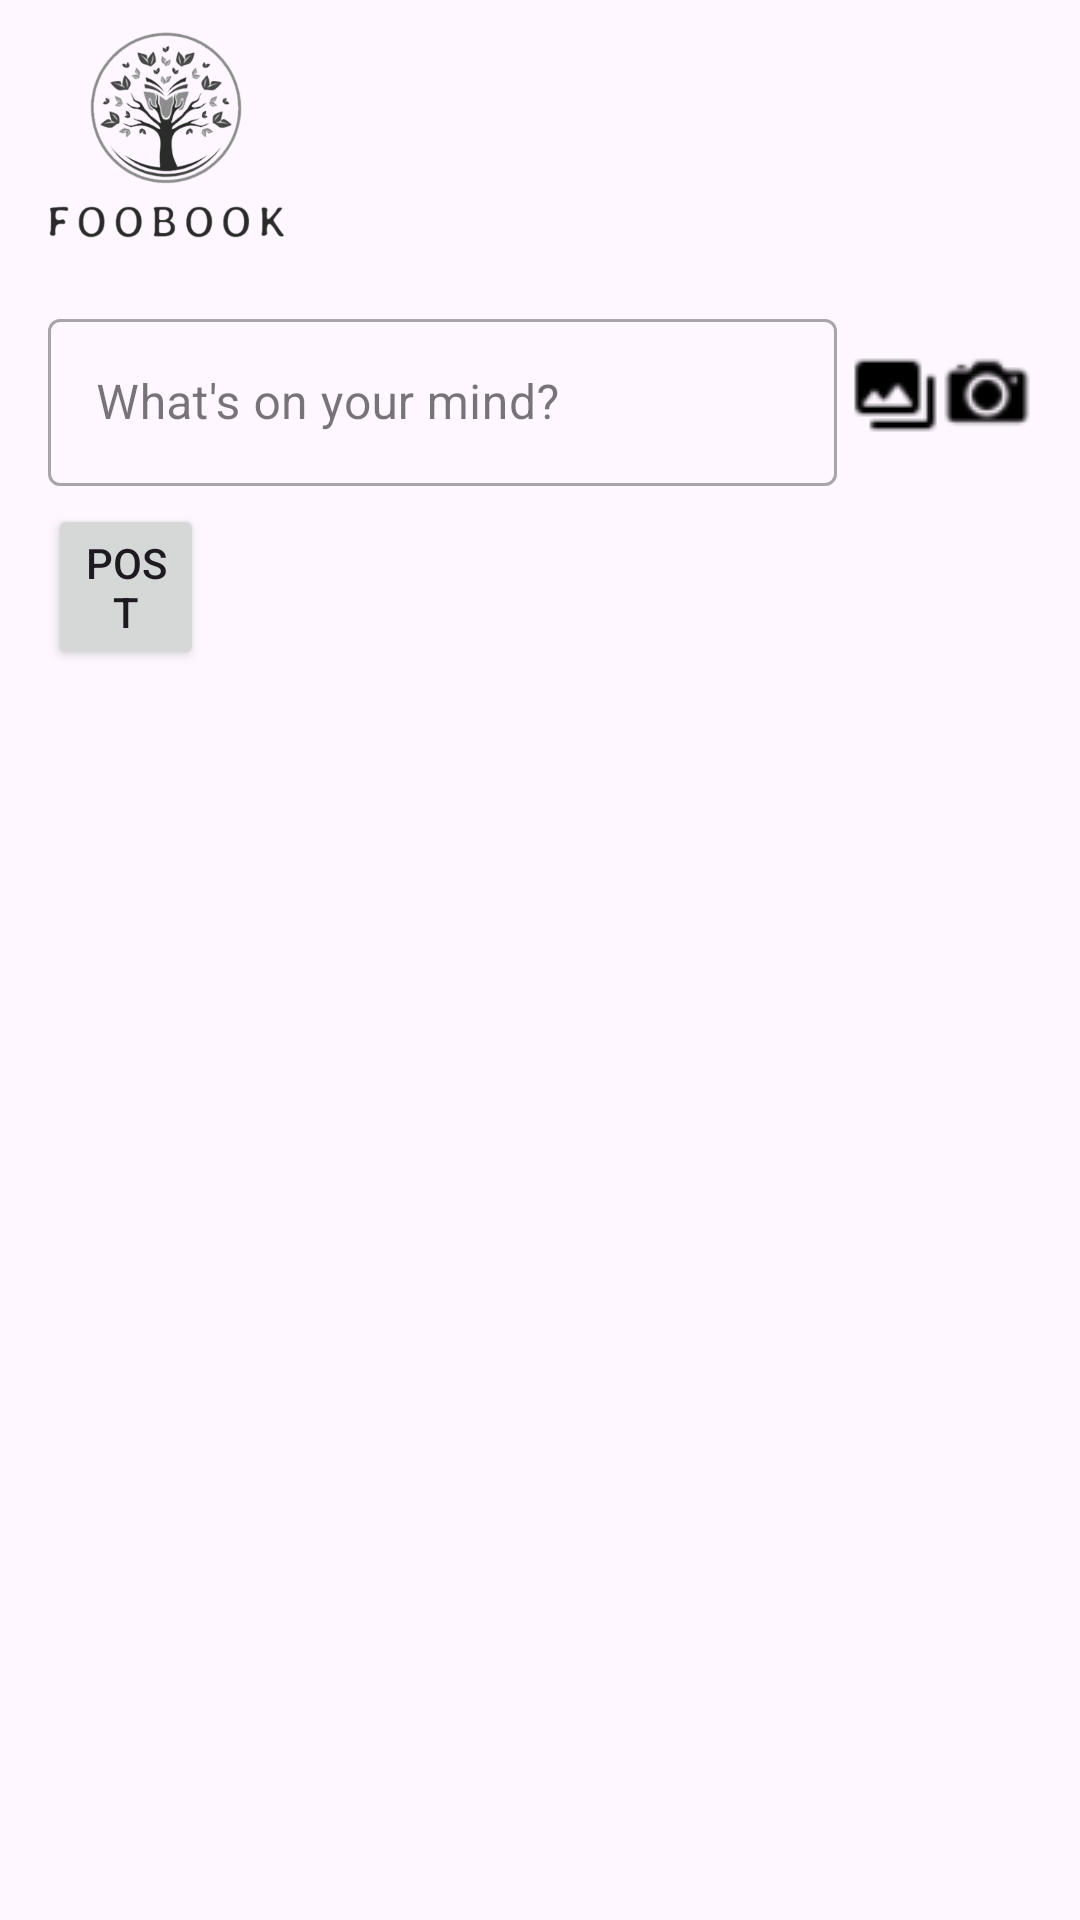

Icon click points for this 1080×1920 phone screenshot, format [x,y]:
camera: [987,392]
gallery: [895,395]
